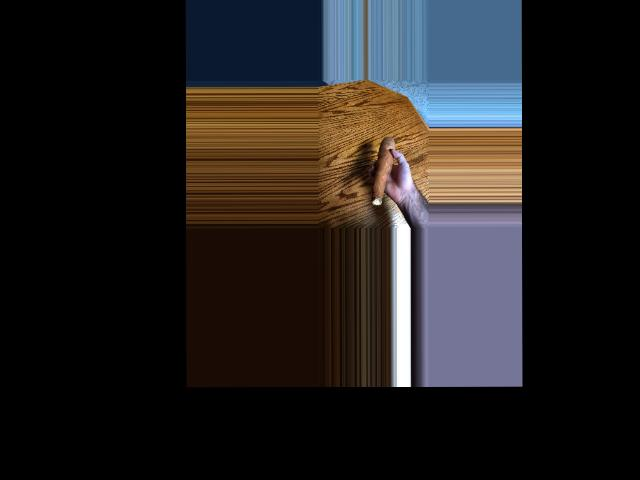sweet_potato: (372, 133, 391, 208)
